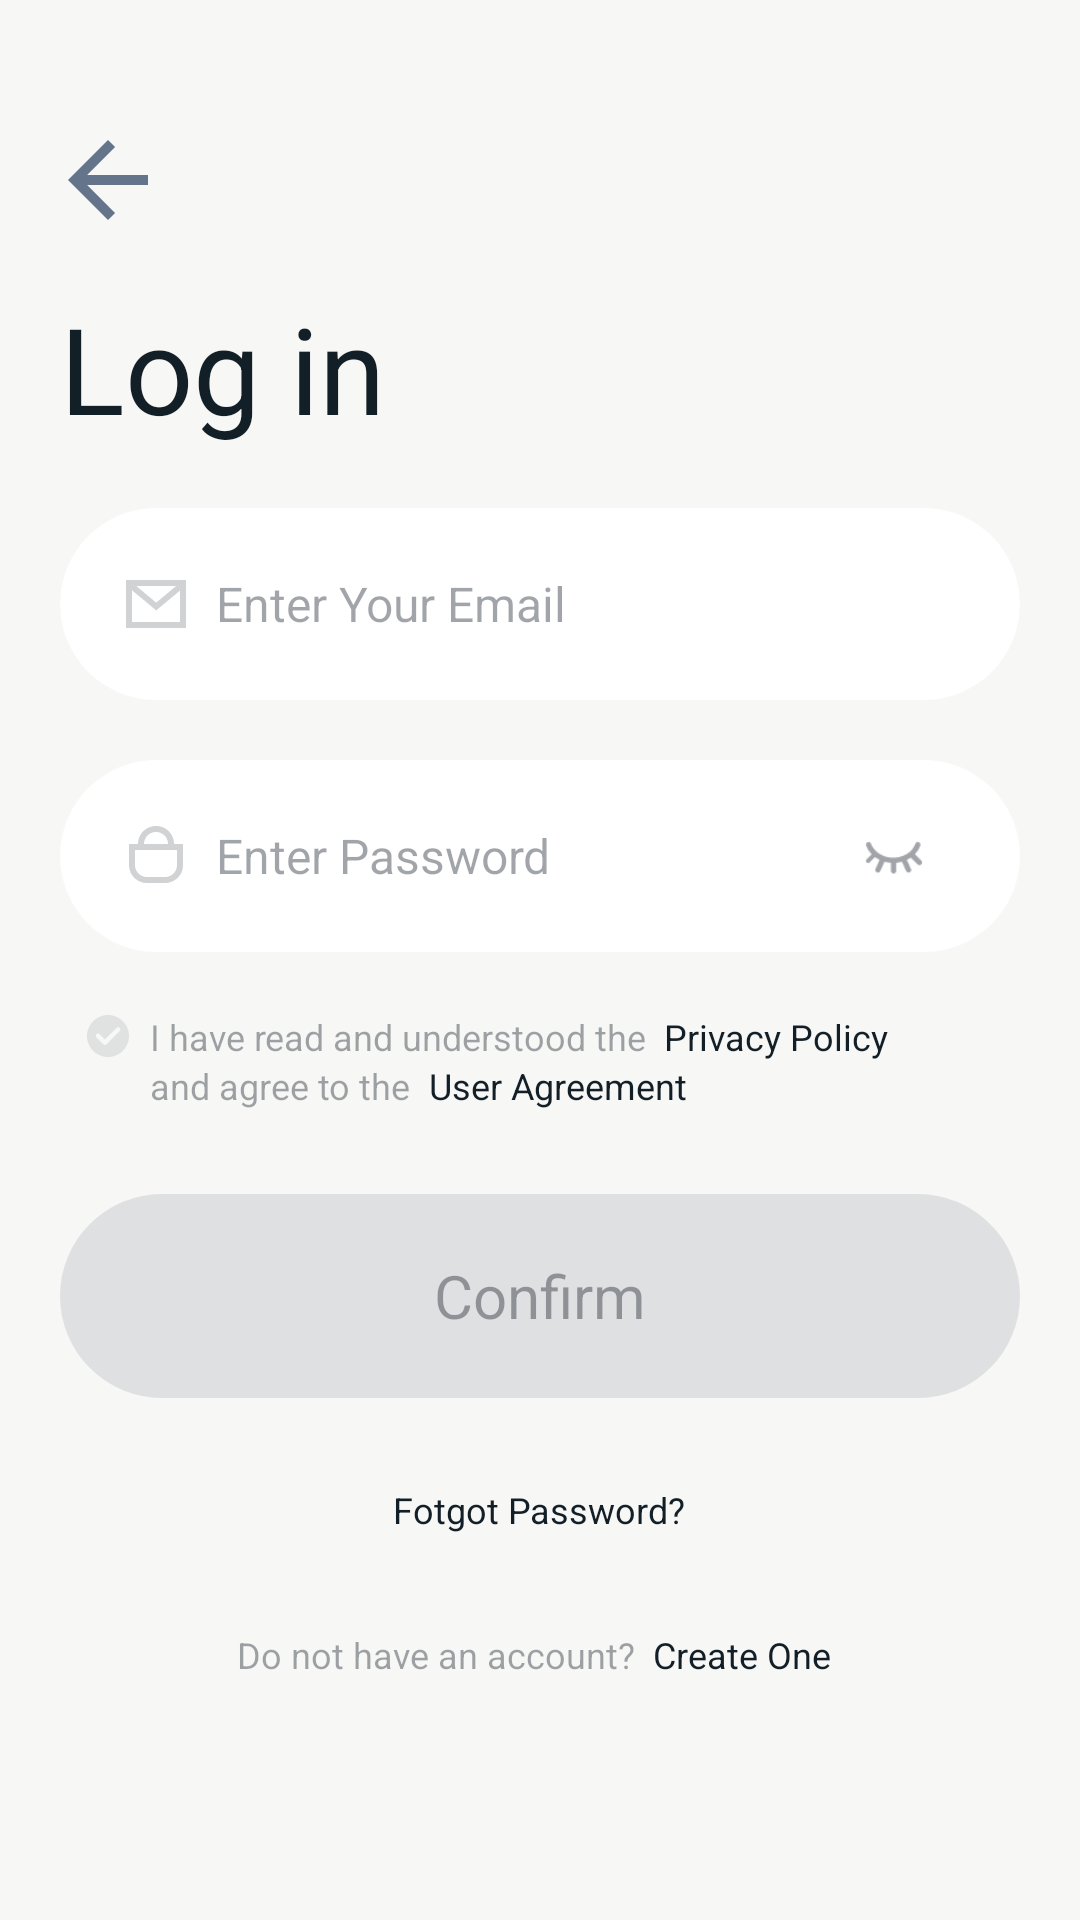

Named icons in this screenshot (1080px x 1920px) and their centers, point (x, y):
arrow back: point (108, 180)
login main pass: point (156, 854)
register home email: point (156, 604)
